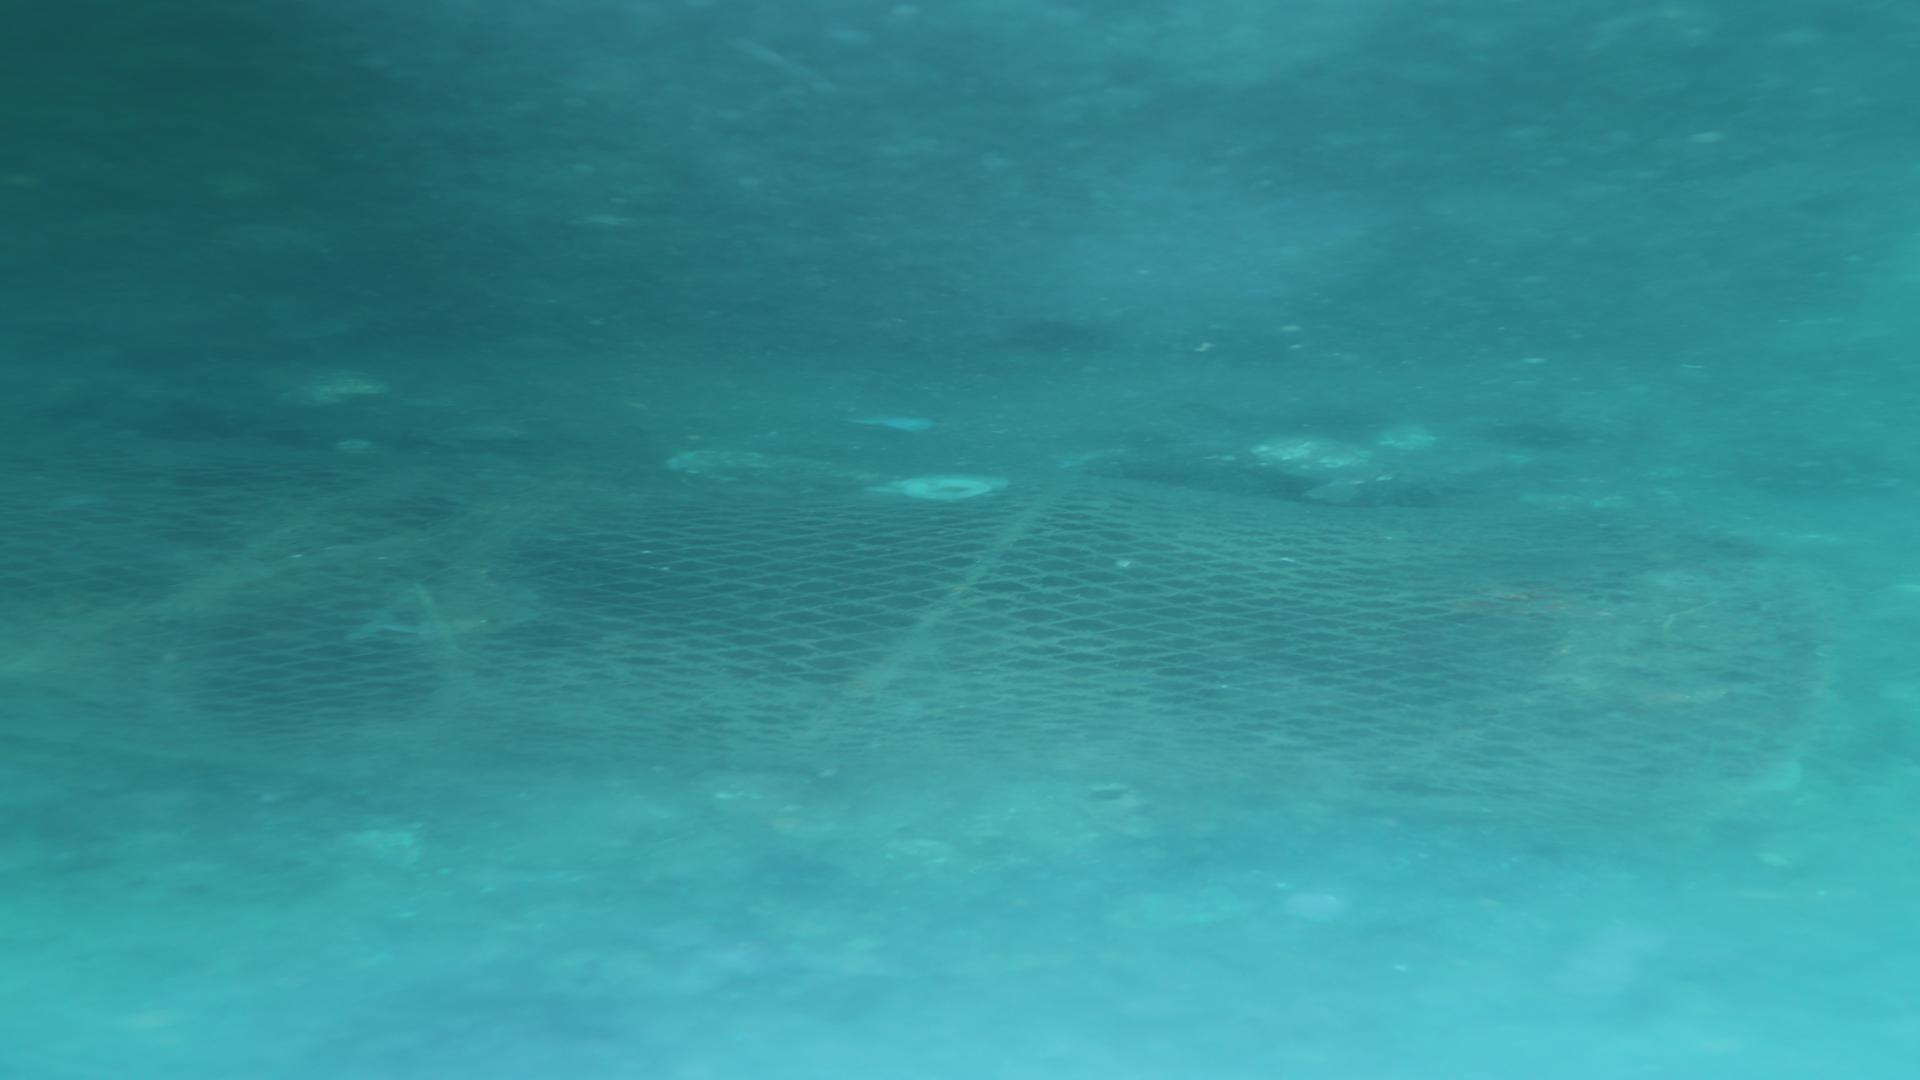spring fish trap: (0, 444, 1836, 818)
